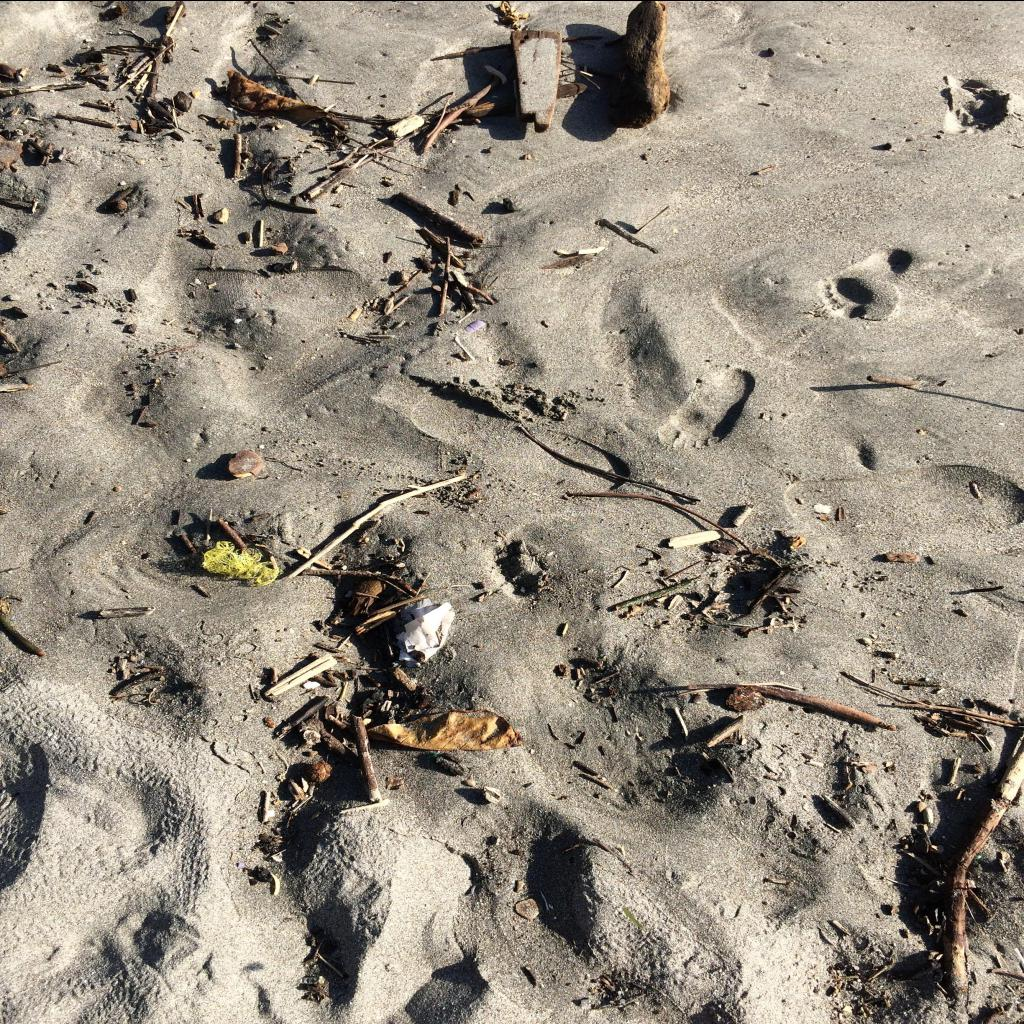Normal paper: (396, 596, 454, 666)
Other plastic wrapper: (463, 320, 487, 332)
Rope - strings: (202, 540, 284, 584)
